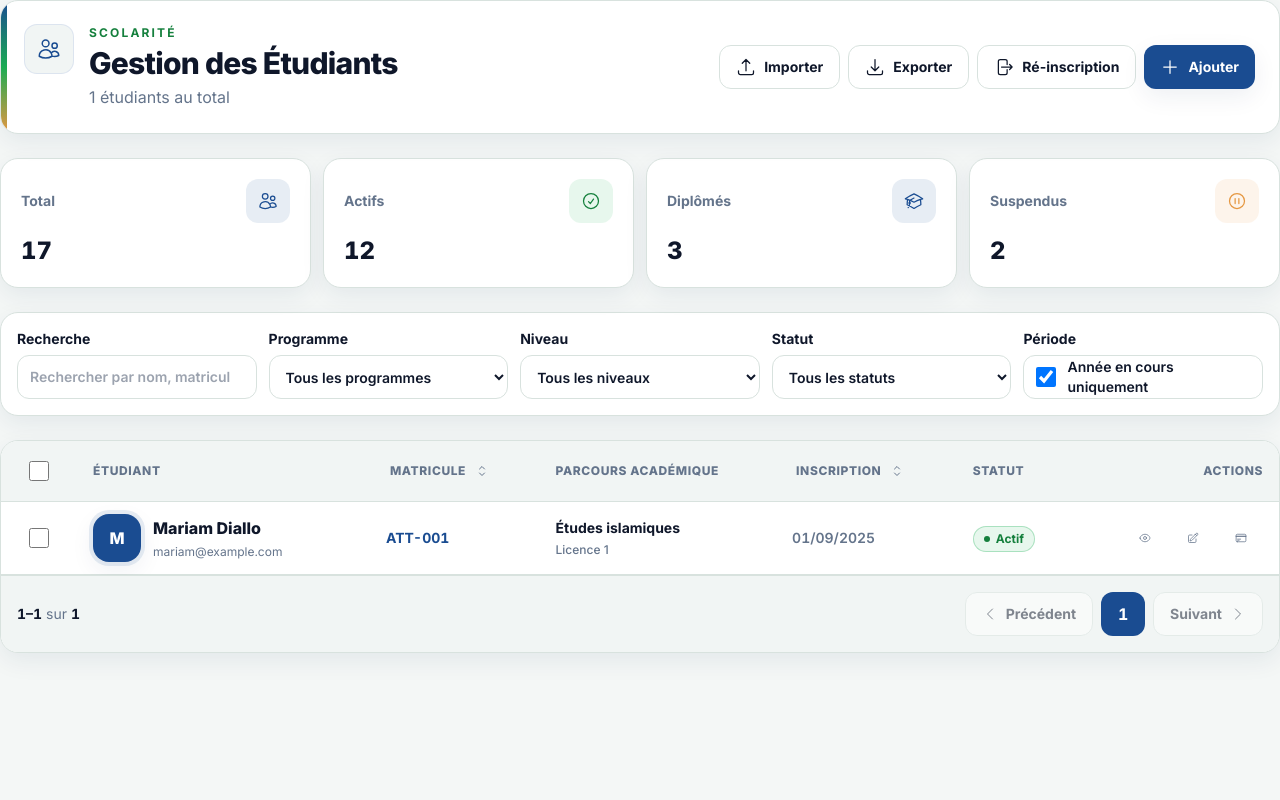
StudentsPage migrated list › SECRETARY: year-correction action visible true
Click the checkbox named "Sélectionner Mariam Diallo" at (39, 538), box [29,528,49,548]
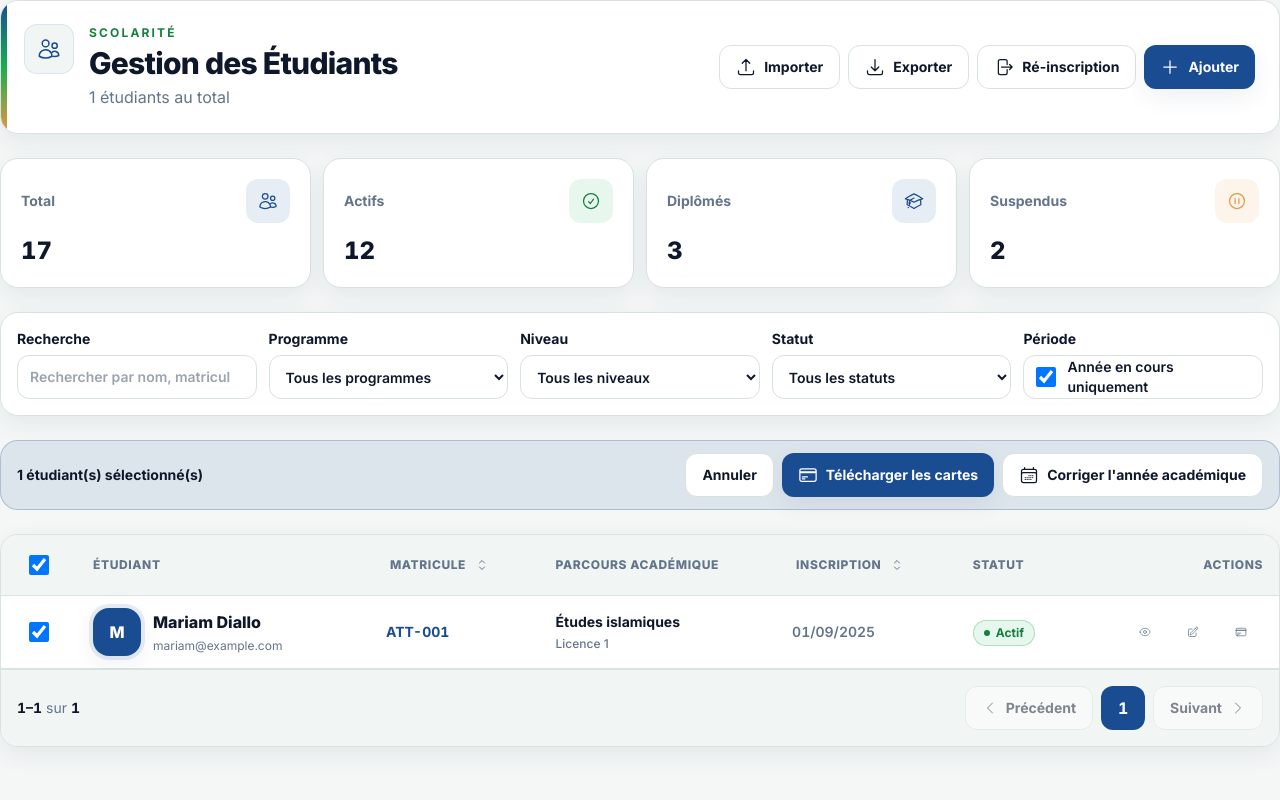
Expected: the button "Corriger l'année académique" is shown, [1002,453,1263,497]
